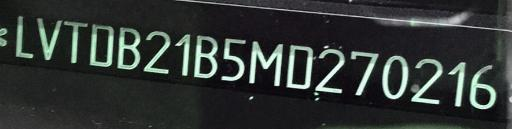letter: (248, 40, 284, 87), (346, 49, 380, 98), (409, 56, 443, 103), (314, 47, 346, 94), (468, 60, 498, 109), (284, 43, 314, 90), (379, 53, 409, 100), (142, 29, 172, 74), (219, 35, 247, 82), (35, 15, 63, 62), (62, 18, 88, 67), (88, 20, 114, 67), (192, 34, 218, 79), (115, 25, 141, 70), (12, 14, 36, 60), (446, 58, 466, 109), (172, 31, 192, 78)
